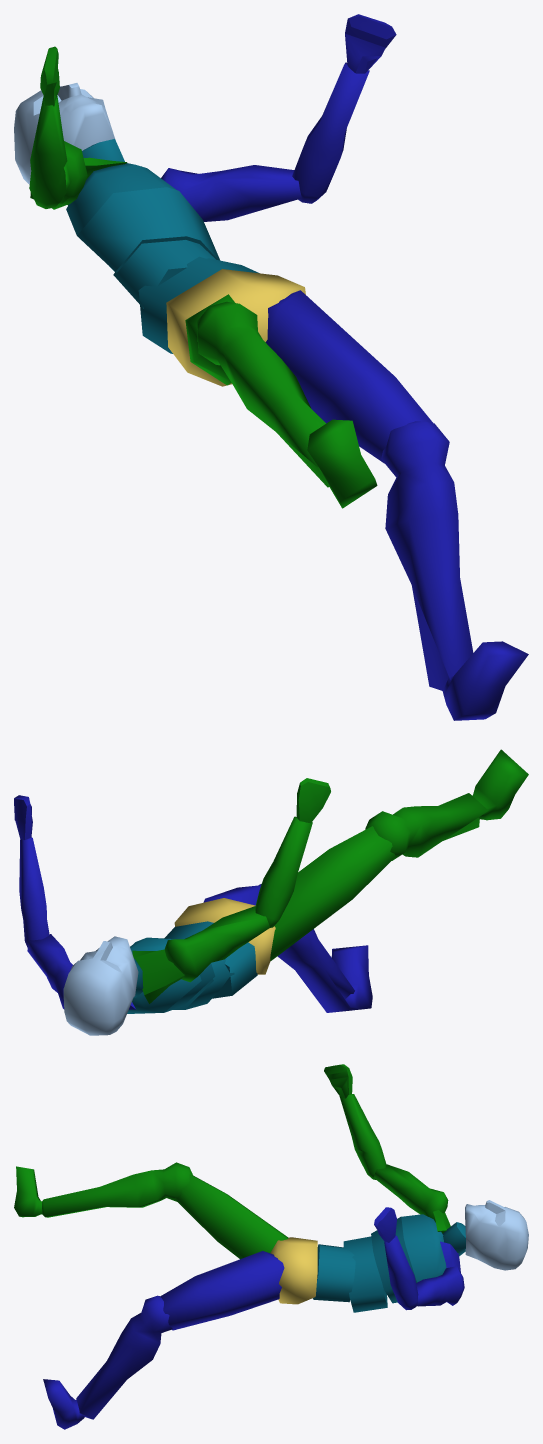
Rendered from biped.obj.
3 renders of one model, top to bottom at view 1: azimuth 30°, elevation 25°; view 2: azimuth 150°, elevation 25°; view 3: azimuth 270°, elevation 25°, orthographic. The views are drawn at different scales.
Parts seen in each view (by area): view 1: Bip001_L_Calf, Bip001_L_Thigh, Bip001_R_Calf, Bip001_Spine2, Bip001_L_UpperArm, Bip001_Pelvis, Bip001_L_Forearm, Bip001_Head, Bip001_L_Foot, Bip001_R_Foot, Bip001_R_Forearm, Bip001_Spine1 (+6 smaller); view 2: Bip001_R_Thigh, Bip001_Head, Bip001_R_Calf, Bip001_R_UpperArm, Bip001_L_Calf, Bip001_R_Forearm, Bip001_L_Forearm, Bip001_R_Foot, Bip001_Pelvis, Bip001_Spine, Bip001_L_Foot, Bip001_L_UpperArm (+7 smaller); view 3: Bip001_L_Thigh, Bip001_L_Calf, Bip001_R_Thigh, Bip001_R_Calf, Bip001_Head, Bip001_Pelvis, Bip001_Spine3, Bip001_Spine1, Bip001_Spine, Bip001_R_UpperArm, Bip001_R_Forearm, Bip001_L_Forearm (+7 smaller).
Part boxes in pixels (x1,y1,x2,y2): Bip001_L_Calf: (381,421,473,690); Bip001_L_Thigh: (265,290,432,463); Bip001_R_Calf: (197,301,328,487); Bip001_Spine2: (77,187,220,272); Bip001_L_UpperArm: (161,165,301,221); Bip001_Pelvis: (166,269,305,386); Bip001_L_Forearm: (292,62,369,203); Bip001_Head: (14,83,115,184); Bip001_L_Foot: (442,641,528,720); Bip001_R_Foot: (307,419,377,508); Bip001_R_Forearm: (29,96,67,208); Bip001_Spine1: (113,240,215,308); Bip001_R_Thigh: (270,826,395,960); Bip001_Head: (63,936,138,1035); Bip001_R_Calf: (365,793,488,860); Bip001_R_UpperArm: (164,906,270,982); Bip001_L_Calf: (258,884,354,1012); Bip001_R_Forearm: (255,816,312,927); Bip001_L_Forearm: (19,837,49,947); Bip001_R_Foot: (472,749,528,820); Bip001_Pelvis: (174,898,275,974); Bip001_Spine: (164,921,257,998); Bip001_L_Foot: (331,945,372,1010); Bip001_L_UpperArm: (27,934,72,1009); Bip001_L_Thigh: (160,1251,284,1330); Bip001_L_Calf: (76,1295,172,1419); Bip001_R_Thigh: (175,1174,288,1259); Bip001_R_Calf: (42,1162,193,1217); Bip001_Head: (465,1200,528,1270); Bip001_Pelvis: (270,1237,317,1304); Bip001_Spine3: (401,1214,446,1282); Bip001_Spine1: (343,1236,387,1312); Bip001_Spine: (313,1244,355,1302); Bip001_R_UpperArm: (373,1164,448,1222); Bip001_R_Forearm: (339,1094,386,1179); Bip001_L_Forearm: (384,1235,418,1310).
Bounding box in the file's own units: 3.42 × 4.45 × 6.65.
